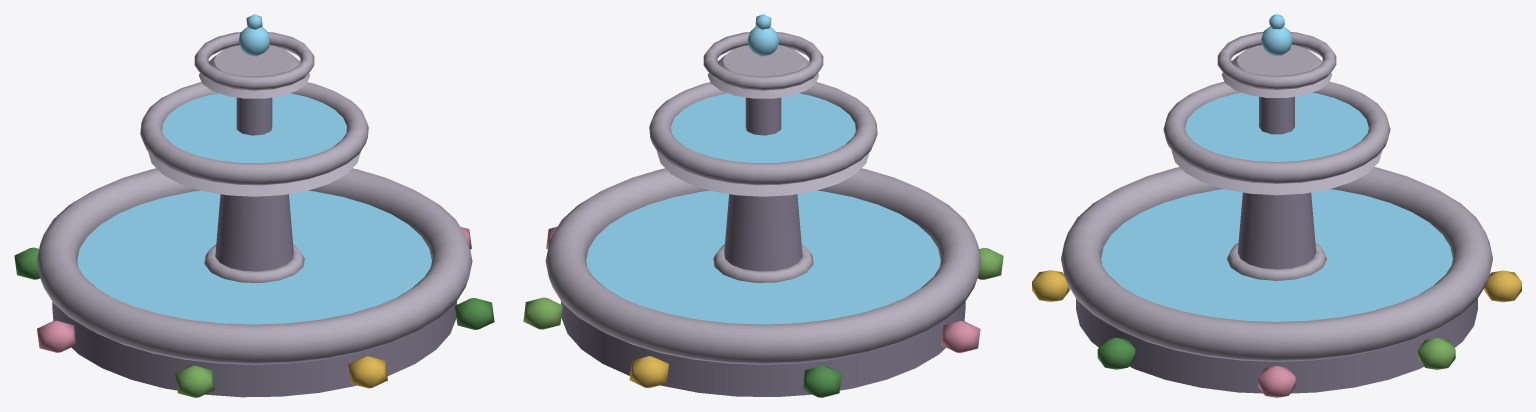
File: ac_fountain.glb
The picture shows the model from 3 angles, left to right: view 1: azimuth 30°, elevation 25°; view 2: azimuth 150°, elevation 25°; view 3: azimuth 270°, elevation 25°; orthographic projection.
Parts seen in each view (by area): view 1: cyl; view 2: cyl; view 3: cyl.
Boxes of the visible parts, x1=… form: cyl: x1=14, y1=14, x2=494, y2=397; cyl: x1=523, y1=14, x2=1003, y2=397; cyl: x1=1032, y1=14, x2=1521, y2=397.
Size of the model in its own units: 4.89 by 3.24 by 4.87.
